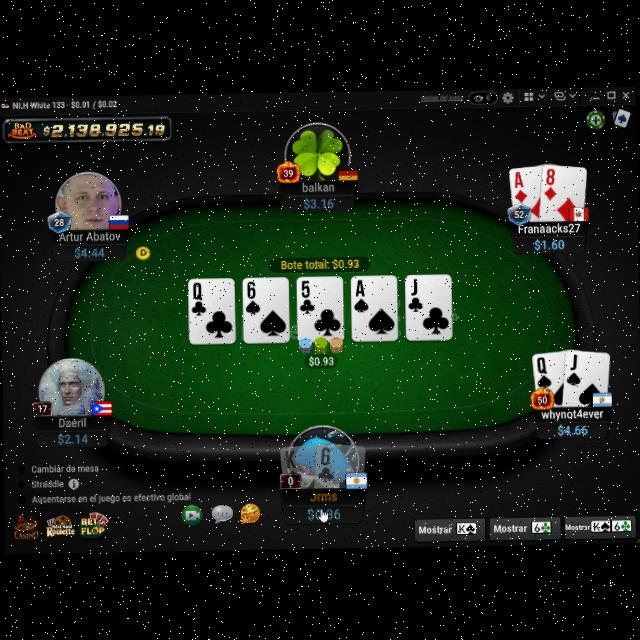5c: (298, 278, 316, 314)
6s: (244, 279, 262, 315)
8d: (542, 166, 558, 200)
Ad: (512, 170, 528, 203)
As: (351, 276, 370, 313)
Jc: (406, 276, 424, 314)
Js: (564, 351, 584, 386)
Qc: (190, 280, 208, 316)
Qs: (534, 354, 554, 390)
bet_text: (307, 353, 334, 365)
dealer: (134, 243, 152, 261)
pot_text: (279, 256, 361, 268)
stack_text: (305, 503, 342, 522), (532, 233, 565, 250), (74, 244, 106, 260), (556, 422, 588, 437), (302, 194, 336, 208), (74, 244, 106, 258), (58, 432, 88, 446)
